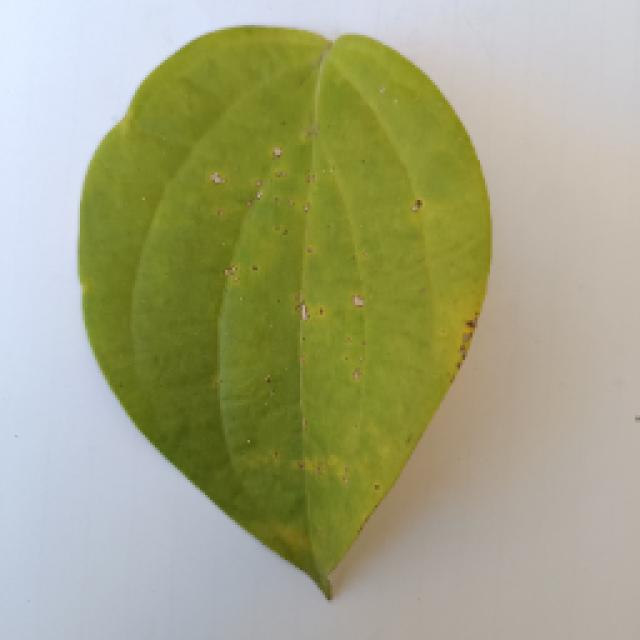slow-decline: (48, 32, 568, 608)
